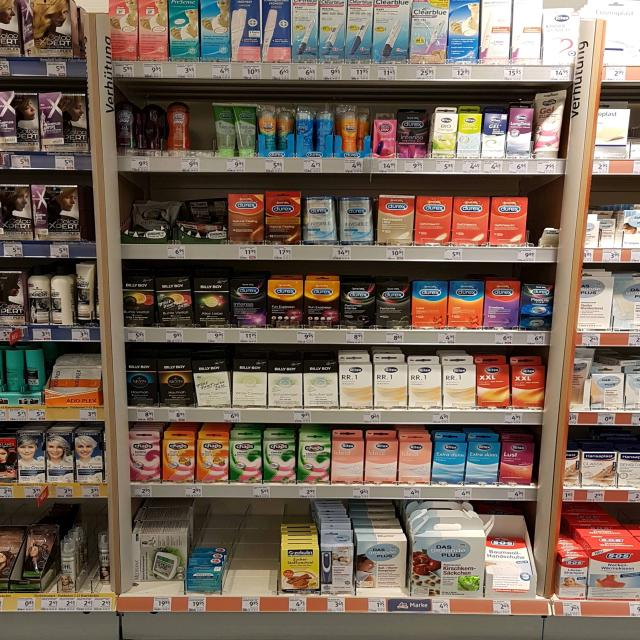void: (222, 499, 279, 592)
